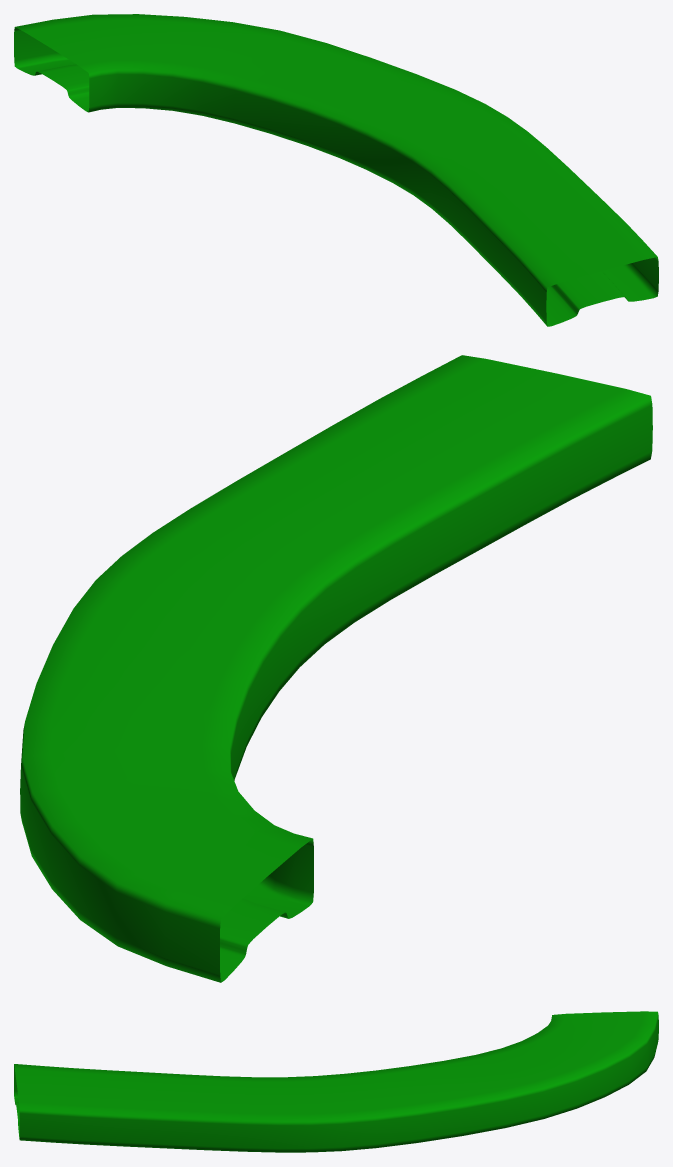
Rendered from TracksNotmoveRigModularBendRight2.fbx.
3 views of the same model, one above another, from view 1: azimuth 30°, elevation 25°; view 2: azimuth 150°, elevation 25°; view 3: azimuth 270°, elevation 25° (orthographic). The views are drawn at different scales.
Parts seen in each view (by area): view 1: NotmoveRigModularBendRight2; view 2: NotmoveRigModularBendRight2; view 3: NotmoveRigModularBendRight2.
Part boxes in pixels (x1=…): NotmoveRigModularBendRight2: x1=14, y1=14, x2=658, y2=326; NotmoveRigModularBendRight2: x1=20, y1=355, x2=652, y2=982; NotmoveRigModularBendRight2: x1=14, y1=1011, x2=658, y2=1152.
Size of the model in its own units: 34.08 by 4.99 by 84.84.
